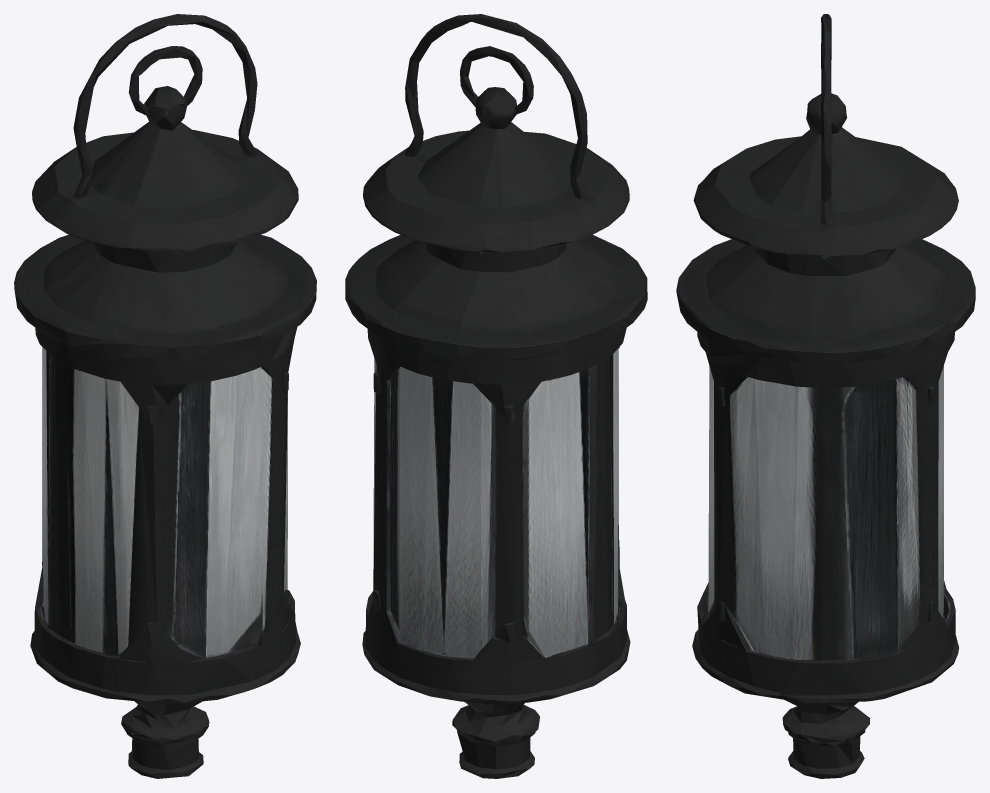
Rendered from an-iron-lantern-with-glass-panes-on-a-sh.glb.
3 views of the same model, side by side, from view 1: azimuth 30°, elevation 25°; view 2: azimuth 150°, elevation 25°; view 3: azimuth 270°, elevation 25° (orthographic).
Size of the model in its own units: 0.6982 by 1.89 by 0.6963.
Materials: 1 (1 with a texture image).
